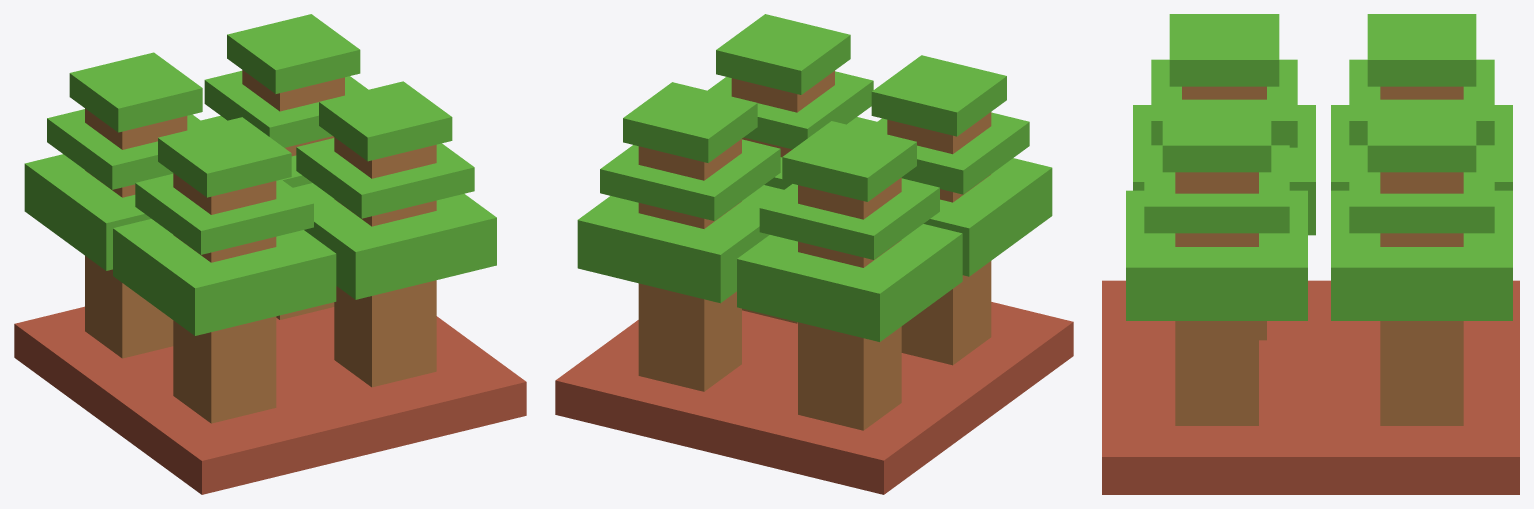
The picture shows the model from 3 angles, left to right: view 1: azimuth 30°, elevation 25°; view 2: azimuth 150°, elevation 25°; view 3: azimuth 270°, elevation 25°; orthographic projection. The views are drawn at different scales.
Visible parts, largest first — view 1: 地面, 树.004, 树.001, 树.002, 树, 树.003; view 2: 树.002, 地面, 树.003, 树, 树.004, 树.001; view 3: 地面, 树.003, 树.004, 树, 树.002, 树.001.
Part boxes in pixels (box(x1,y1,x2,y2)): 地面: box(14, 306, 526, 494); 树.004: box(293, 81, 496, 387); 树.001: box(114, 118, 336, 423); 树.002: box(24, 52, 207, 358); 树: box(113, 117, 335, 419); 树.003: box(201, 14, 368, 319); 树.002: box(737, 121, 962, 430); 地面: box(555, 302, 1073, 494); 树.003: box(577, 82, 783, 391); 树: box(867, 60, 1051, 365); 树.004: box(708, 14, 876, 323); 树.001: box(867, 55, 1052, 364); 地面: box(1102, 280, 1519, 494); 树.003: box(1331, 99, 1512, 425); 树.004: box(1126, 99, 1307, 425); 树: box(1134, 14, 1315, 340); 树.002: box(1331, 14, 1512, 190); 树.001: box(1133, 14, 1314, 340).
Bounding box in the file's own units: 200 × 171 × 200.
